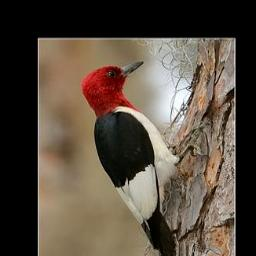Woodpecker: (79, 56, 210, 256)
